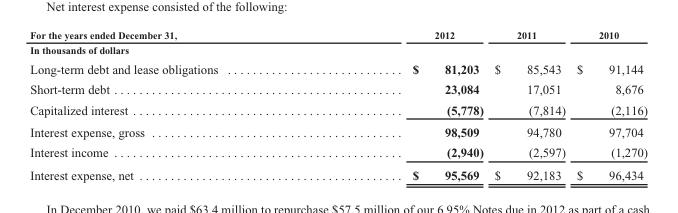table: (29, 28, 646, 182)
table column: (29, 28, 314, 182), (314, 28, 488, 182), (488, 28, 570, 182), (570, 28, 646, 182)
table column header: (29, 28, 646, 42)
table projected row header: (29, 42, 646, 58)
table row: (29, 120, 646, 142), (29, 58, 646, 79), (29, 99, 646, 120), (29, 142, 646, 163), (29, 79, 646, 99), (29, 163, 646, 182), (29, 42, 646, 58), (29, 28, 646, 42)
